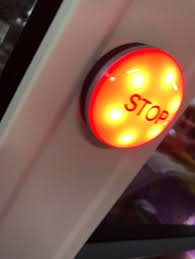bell: (75, 39, 185, 156)
